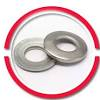No thread: (22, 46, 52, 61), (57, 37, 80, 55)
